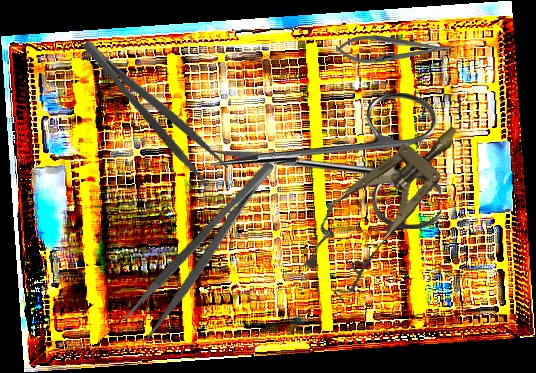Dressing Forceps: (119, 156, 293, 343), (78, 25, 230, 190)
Iris Scissors: (210, 93, 441, 229)
Needle Holder: (336, 35, 452, 64)
Speculum: (287, 102, 484, 304)
